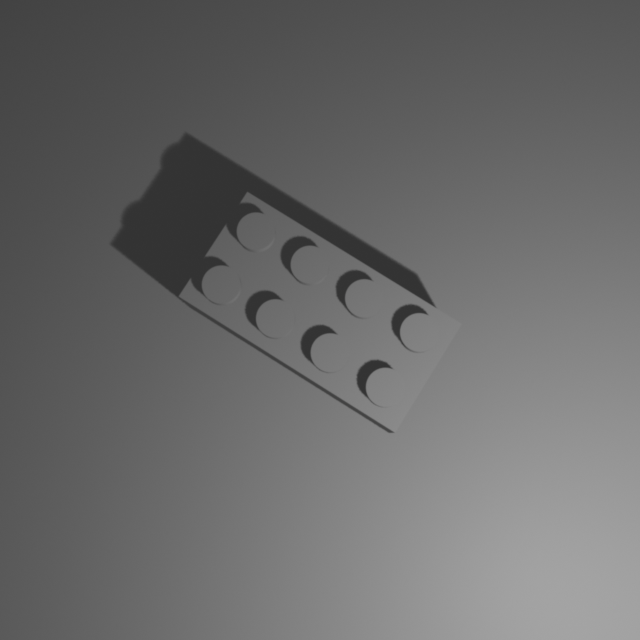lego_2x4: (177, 188, 464, 433)
